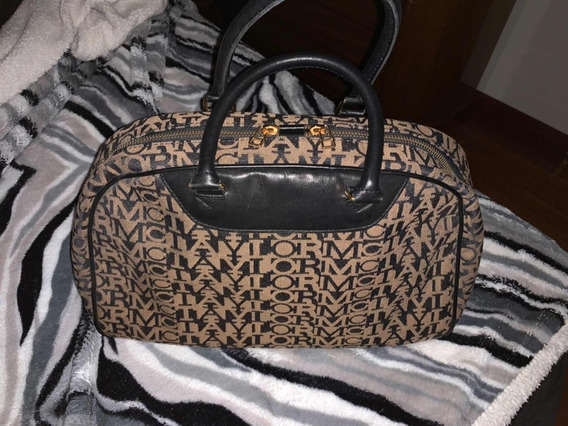cartera: (70, 3, 485, 351)
